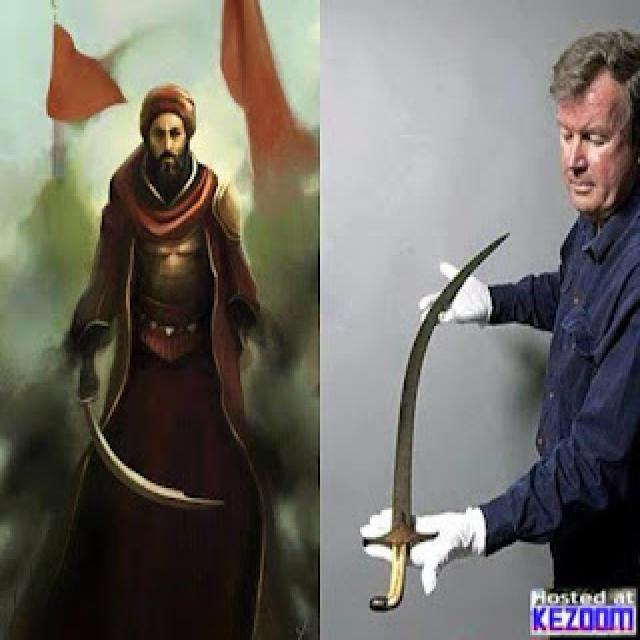long sword: (364, 219, 517, 619), (58, 356, 230, 518)
